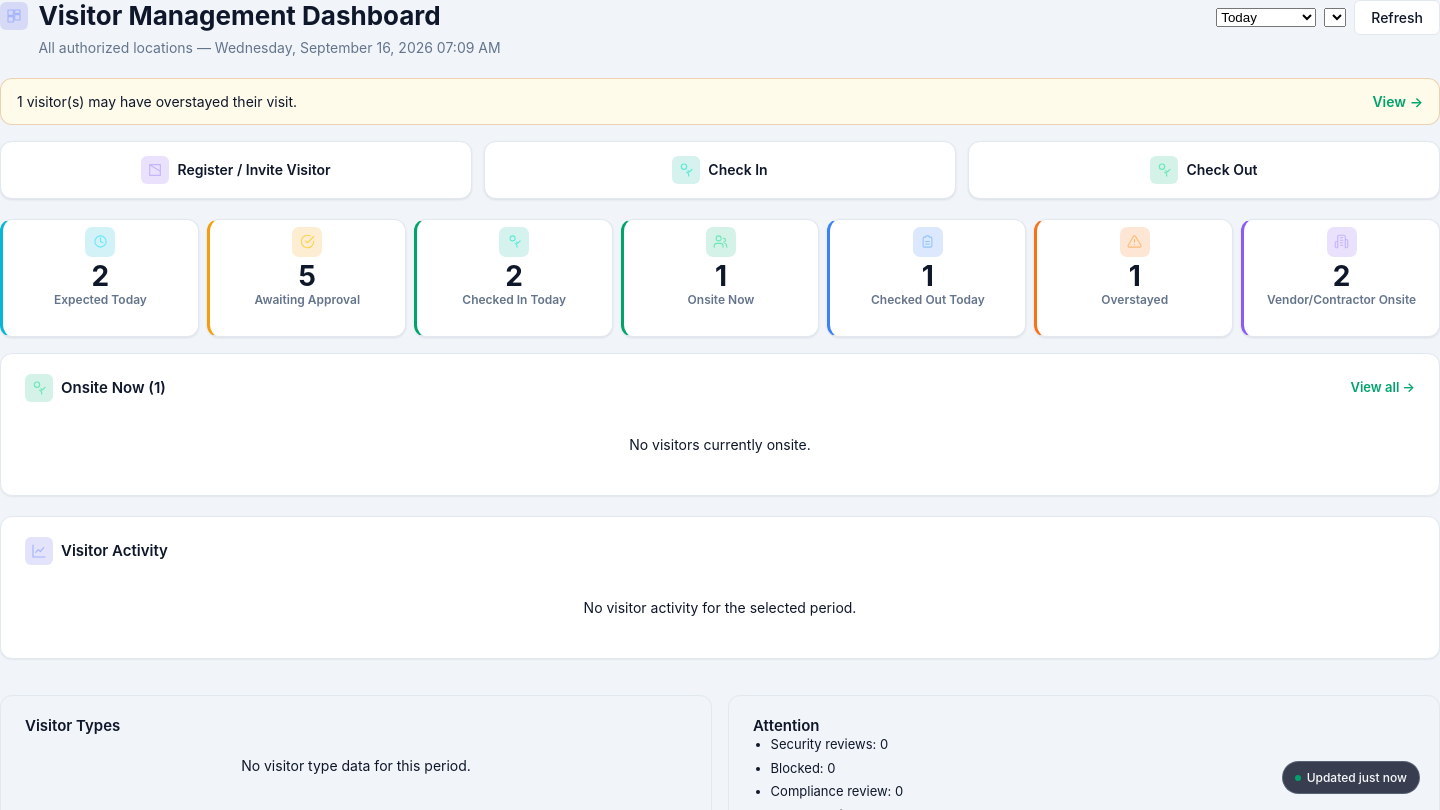
Dashboard KPI interactions › opens drill-down modal for Checked In Today
The image size is (1440, 810).
Expected: the heading "Visitor Management Dashboard" is shown, [38,0,501,32]
What coordinates should you click on to do the following:
click the button with aria-label "View visitors checked in today"
I would click on:
 (513, 278)
Its box is [414,219,613,337].
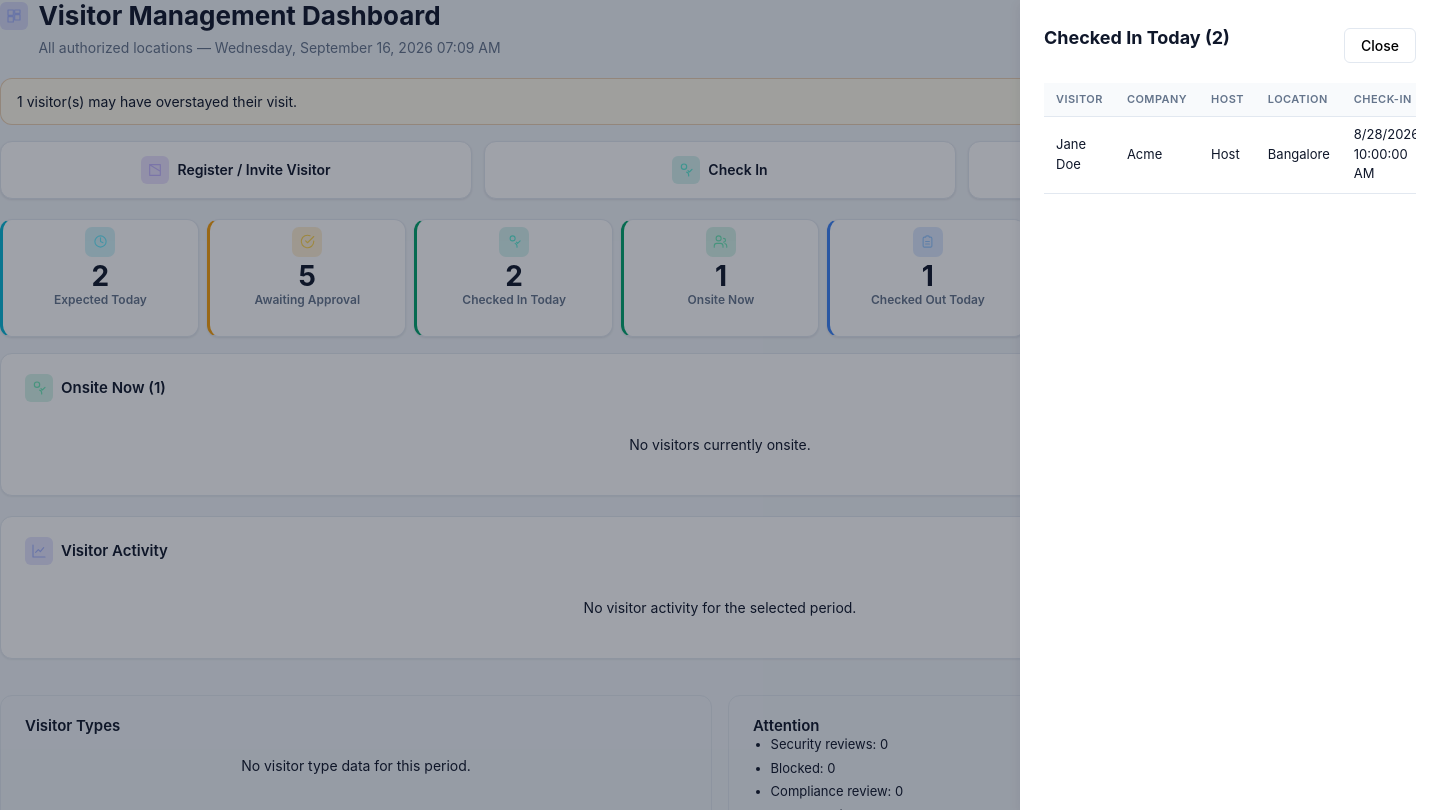
Now the dialog is shown, box [1020,0,1439,809]
Now the heading "Checked In Today (2)" is shown, box [1044,24,1230,51]
